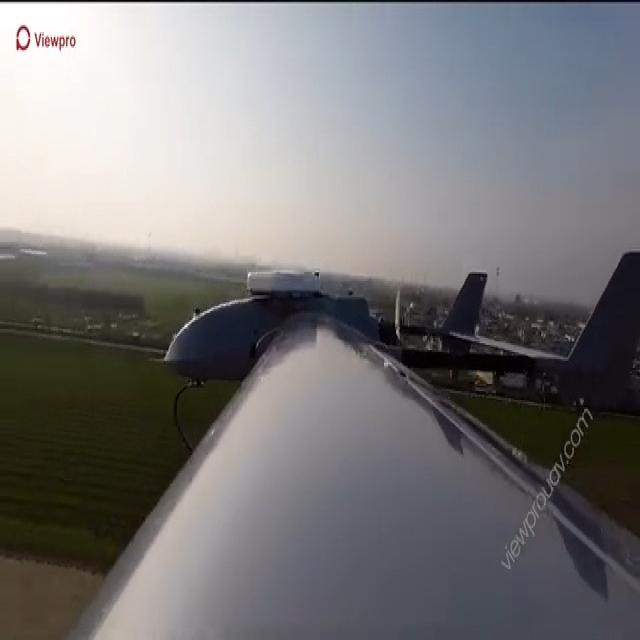drones: (151, 238, 640, 428)
